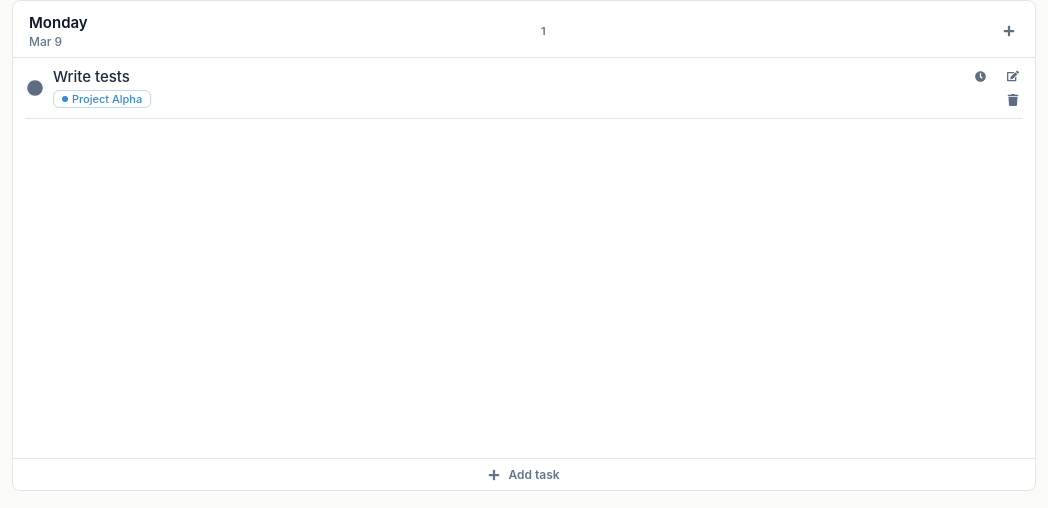
Test case: DayColumn › estimate editing › shows estimate input when clock button is clicked
Click the button named "Set time estimate" at x=980, y=77, box [966, 69, 995, 84]
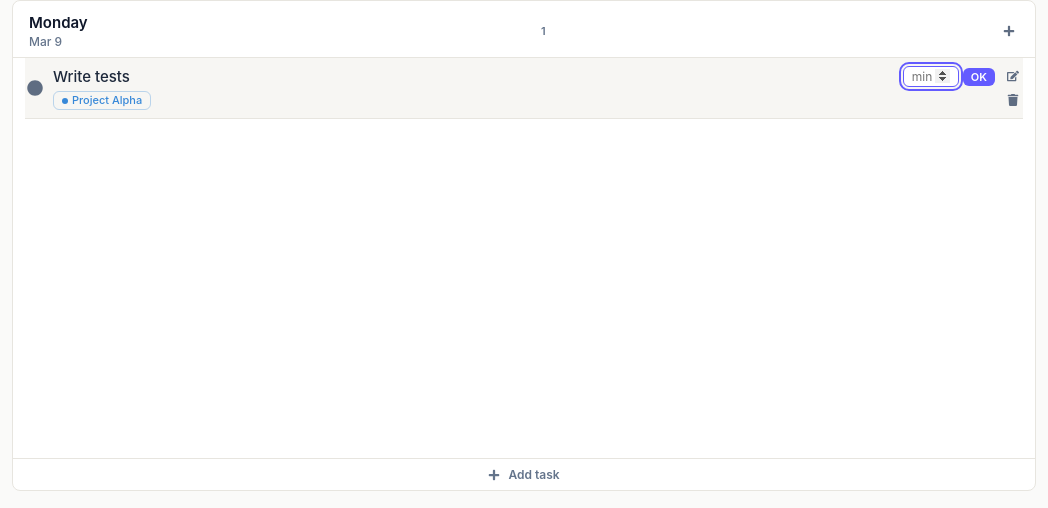
Result: the number field with placeholder "min" is shown at [903, 66, 959, 87]
